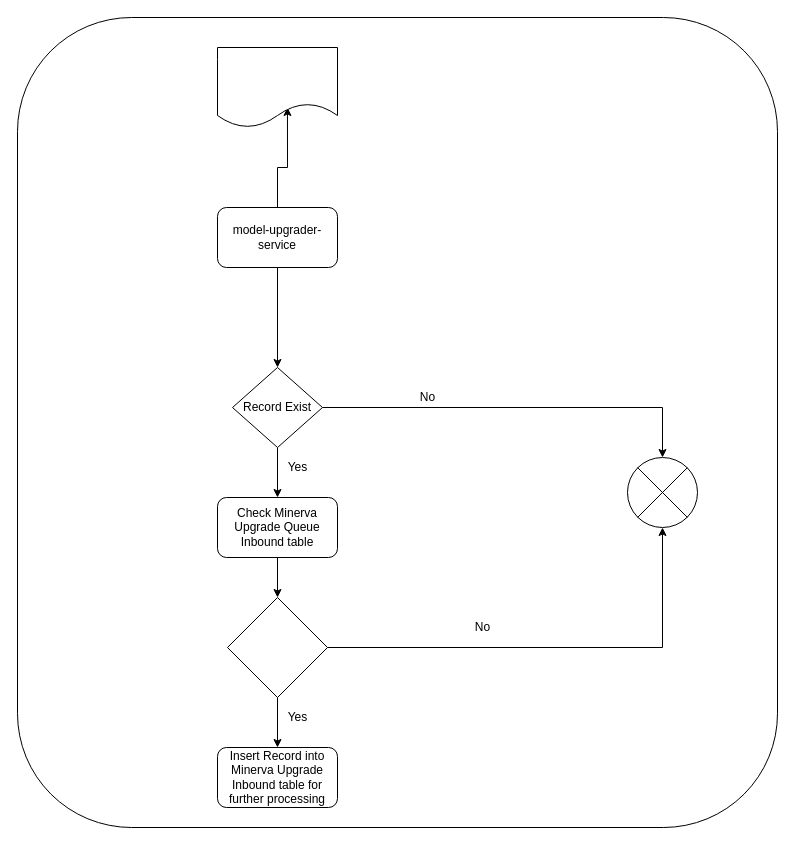
This 795x845 diagram has some shape labels left out. The shapes that lost their labels are listed below. From the top down, each one's box as (x1, y1, x2, y2) in pixels, then its label:
(216, 46, 338, 128): model-upgrade-config.json
(226, 596, 328, 698): Training done or in progress ?
